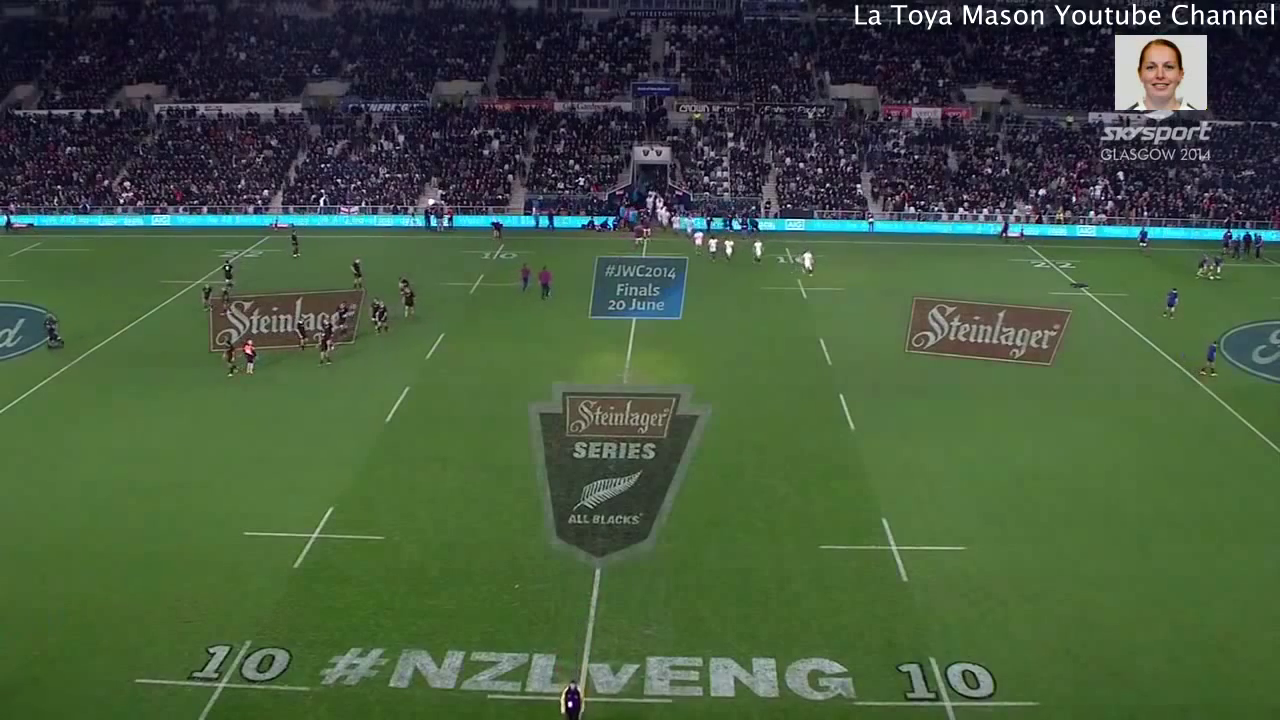10_metre: (792, 510, 979, 603), (124, 634, 317, 720), (847, 645, 1055, 720), (236, 503, 392, 574), (756, 270, 853, 301), (433, 271, 533, 298), (458, 241, 537, 263), (749, 246, 830, 267)
player: (1193, 332, 1224, 384), (38, 313, 68, 353), (217, 334, 243, 379), (396, 284, 422, 324), (533, 262, 555, 308), (1158, 282, 1181, 324), (314, 328, 336, 369), (333, 297, 353, 342), (374, 298, 395, 340), (347, 253, 367, 295), (364, 294, 383, 338), (293, 311, 312, 353), (513, 258, 534, 296), (240, 335, 258, 378), (798, 246, 820, 280), (215, 286, 236, 319), (321, 317, 338, 356), (392, 271, 416, 298), (219, 258, 237, 292), (720, 234, 738, 268), (705, 230, 721, 265), (288, 225, 303, 260), (691, 227, 706, 260), (668, 210, 684, 239), (750, 236, 765, 266), (200, 282, 213, 314), (683, 212, 695, 241)
